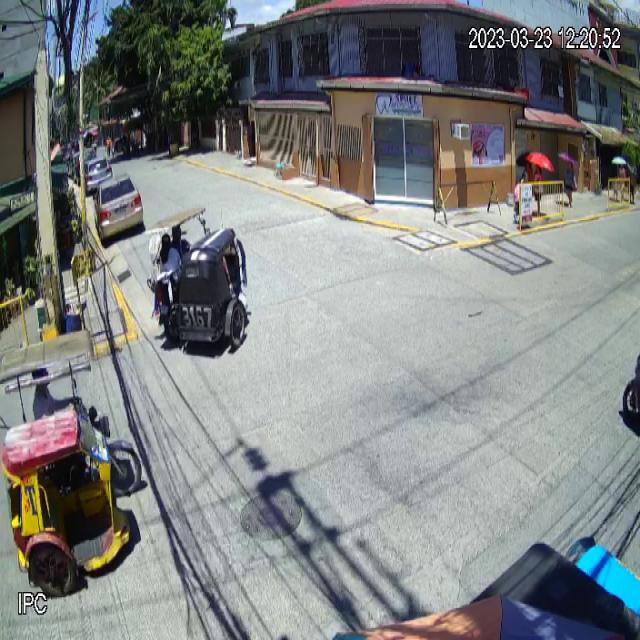Car: (92, 171, 144, 243)
Tricycle: (0, 330, 142, 600), (146, 206, 250, 359)
